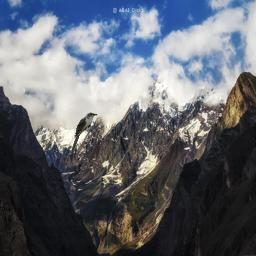Cuckoo: (70, 112, 98, 153)
